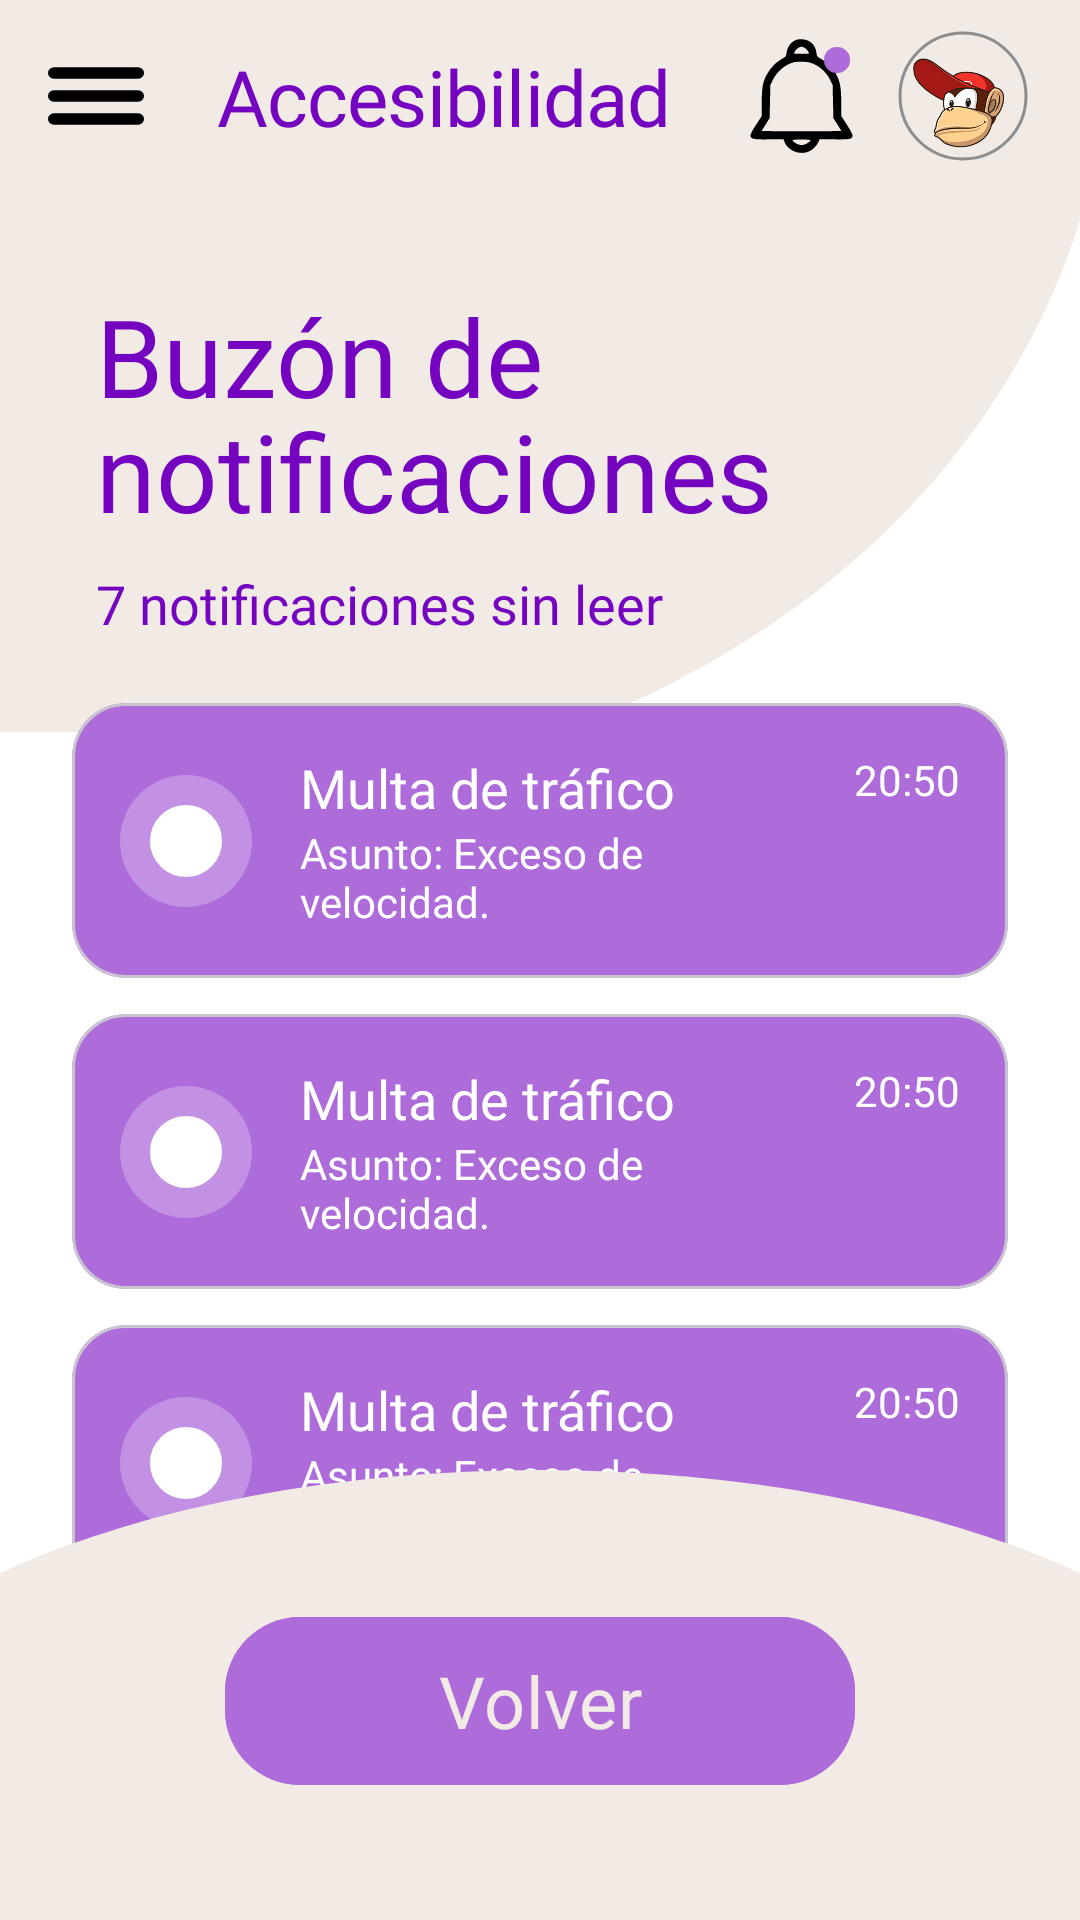

Icons on this 1080x1920 Android screen, each with the point to tap as [x,y]:
Menú: [96,96]
